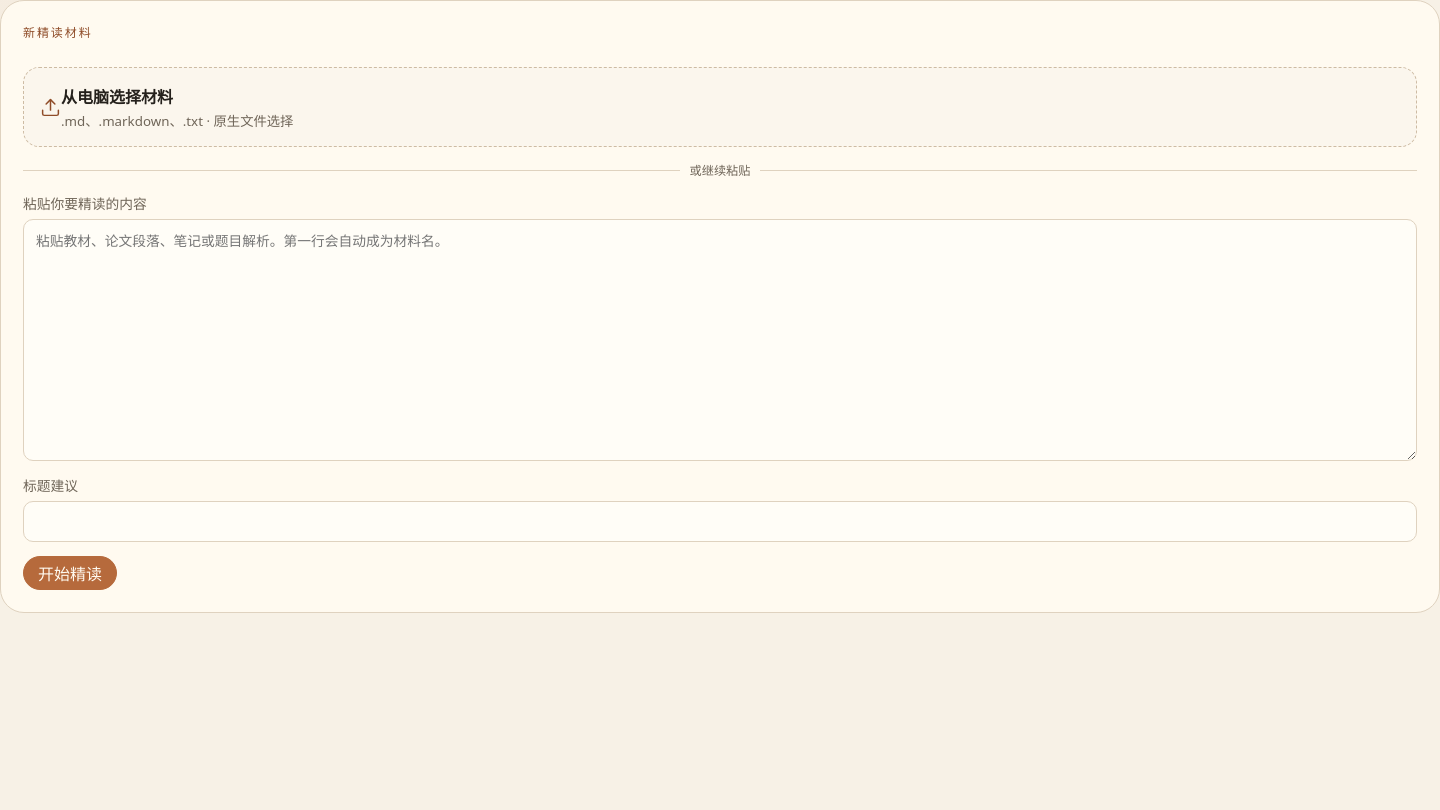
Test: desktop interaction adapters › uses the native file picker and continues through the existing Reading form
Click the button "从电脑选择材料 .md、.markdown、.txt · 原生文件选择".
click(117, 97)  # box [23,67,1417,147]
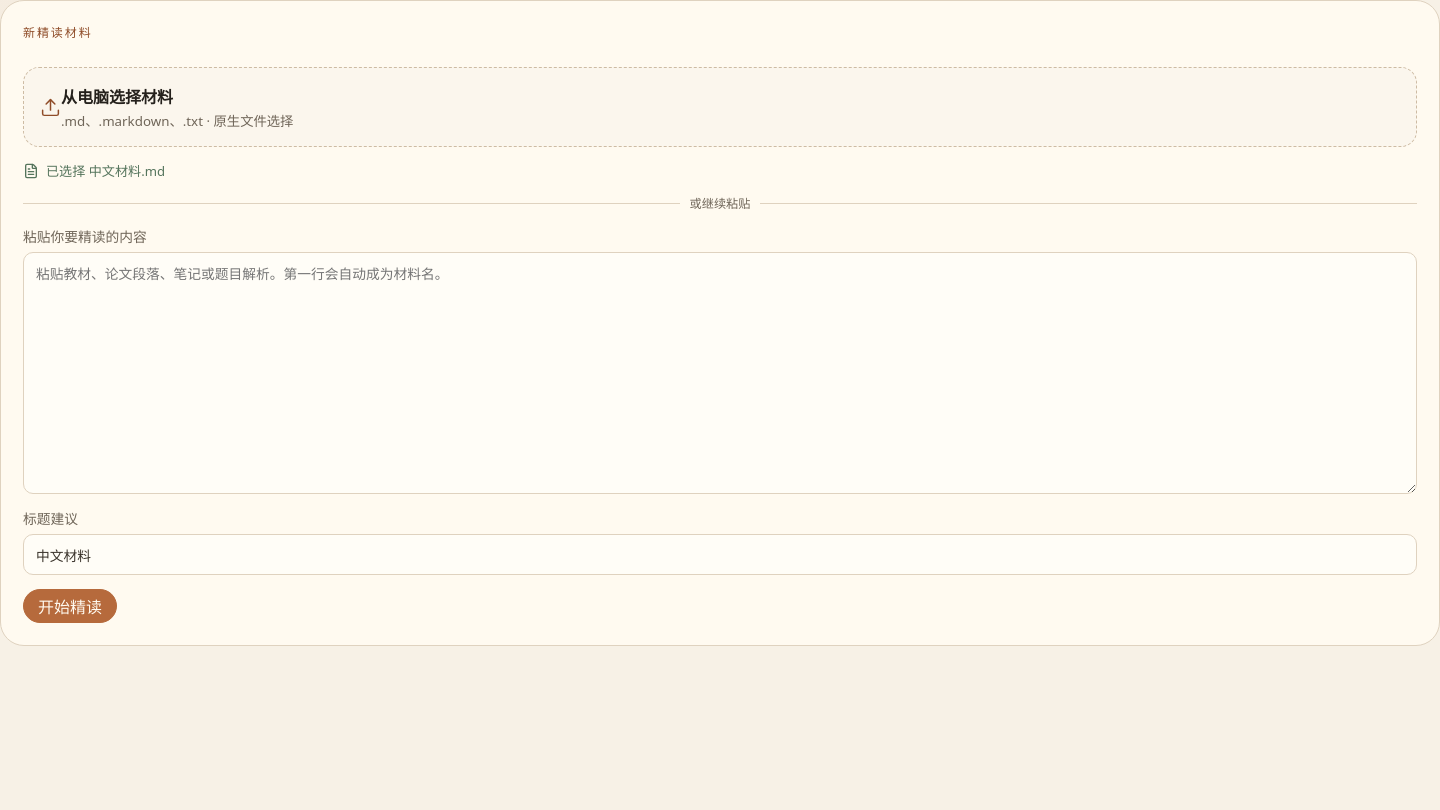
Expected: the text box labelled "粘贴你要精读的内容" is empty, [23,252,1417,494]
Expected: the text "已选择 中文材料.md" is shown, [23,162,165,180]
Expected: the field labelled "标题建议" holds "中文材料", [23,534,1417,575]
